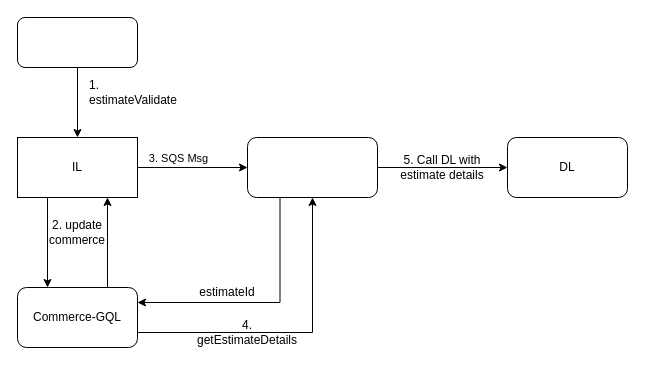
This 645x365 diagram has some shape labels left out. The box of each missing label's shape, as (x1, y1, x2, y2) in pixels:
lambda: (246, 136, 378, 198)
UI: (16, 16, 138, 68)
